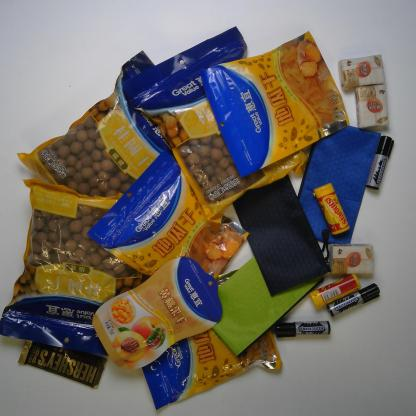Candy: (312, 182, 350, 235), (310, 273, 360, 310)
Chocolate: (18, 334, 106, 388)
Dried Food: (17, 51, 213, 243), (122, 26, 308, 224), (0, 179, 149, 356)
Dried Fruit: (86, 150, 249, 303), (116, 269, 283, 410), (200, 30, 350, 177), (92, 257, 223, 371)
Stationery: (192, 226, 323, 358), (226, 152, 330, 296), (280, 114, 381, 248), (327, 283, 380, 316), (366, 136, 394, 190), (274, 321, 330, 337)
Tissue: (354, 83, 389, 129), (338, 55, 385, 89), (330, 242, 375, 276)
